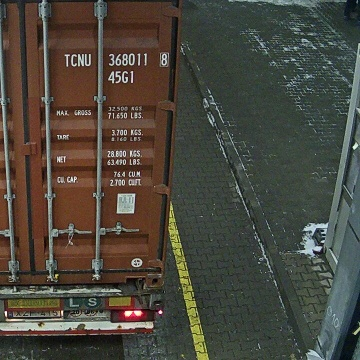serial_id: (64, 53, 167, 66)
